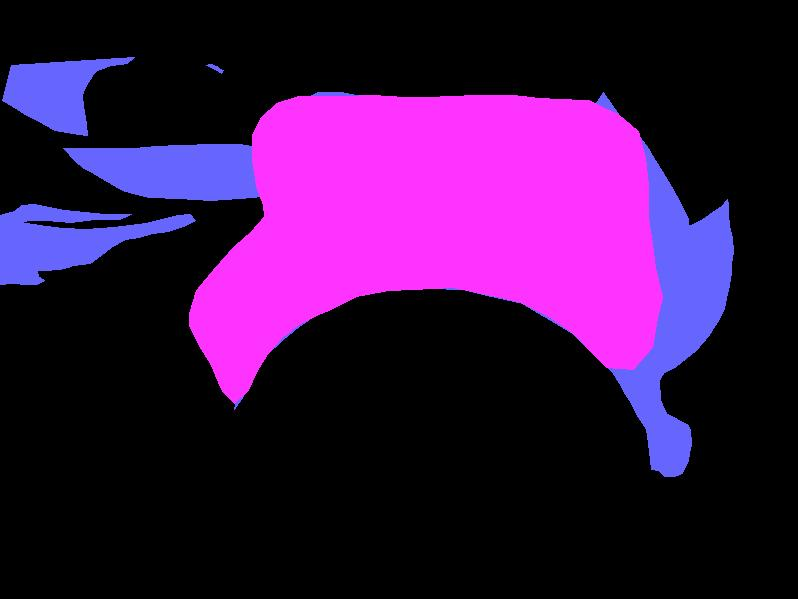Dent: (189, 95, 662, 403)
Scratch: (278, 92, 688, 302), (520, 199, 733, 476), (234, 250, 348, 409), (0, 204, 195, 284), (63, 144, 309, 200), (2, 57, 134, 135), (206, 64, 223, 73)
